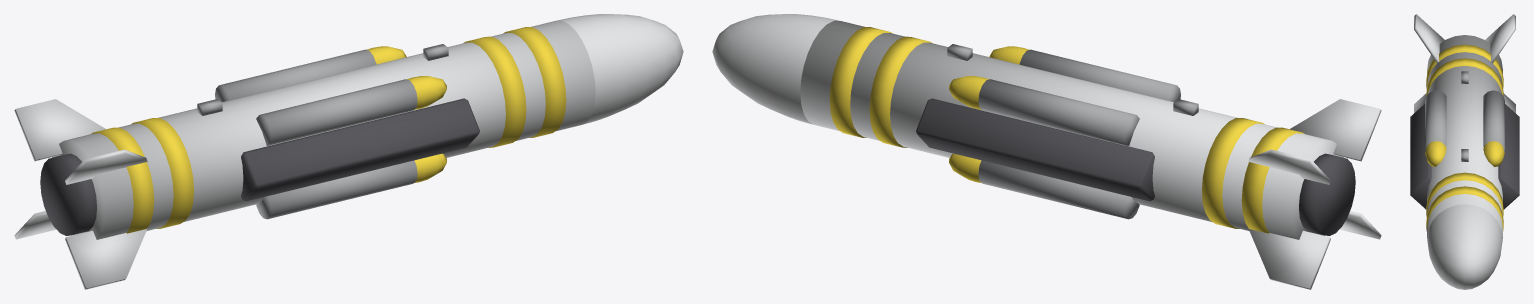
The model's file is aam_evo.glb.
3 renders of one model, left to right at view 1: azimuth 30°, elevation 25°; view 2: azimuth 150°, elevation 25°; view 3: azimuth 270°, elevation 25°, orthographic. The views are drawn at different scales.
Visible parts, largest first — view 1: aam_evo; view 2: aam_evo; view 3: aam_evo.
Part boxes in pixels (x1=…): aam_evo: x1=14, y1=14, x2=683, y2=289; aam_evo: x1=712, y1=14, x2=1381, y2=289; aam_evo: x1=1410, y1=14, x2=1519, y2=289.
Bounding box in the file's own units: 0.948 × 0.1881 × 0.2016.
